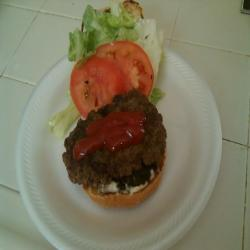burger: (68, 6, 170, 211)
salad: (69, 6, 142, 60)
